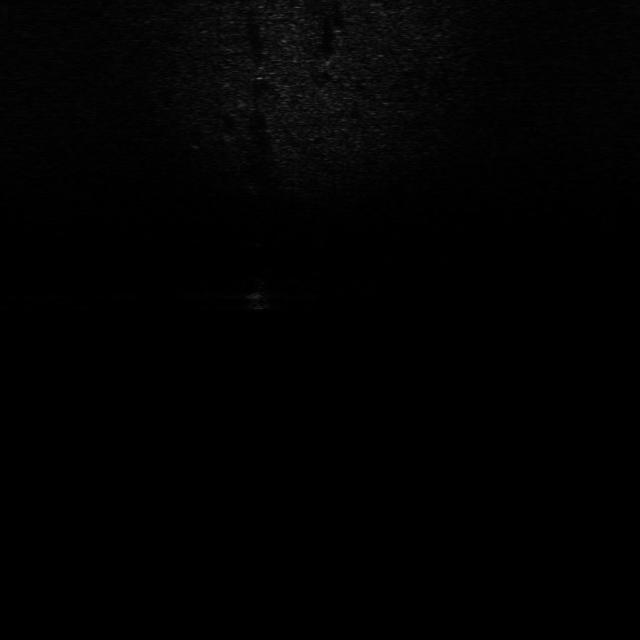human body: (240, 268, 280, 320)
